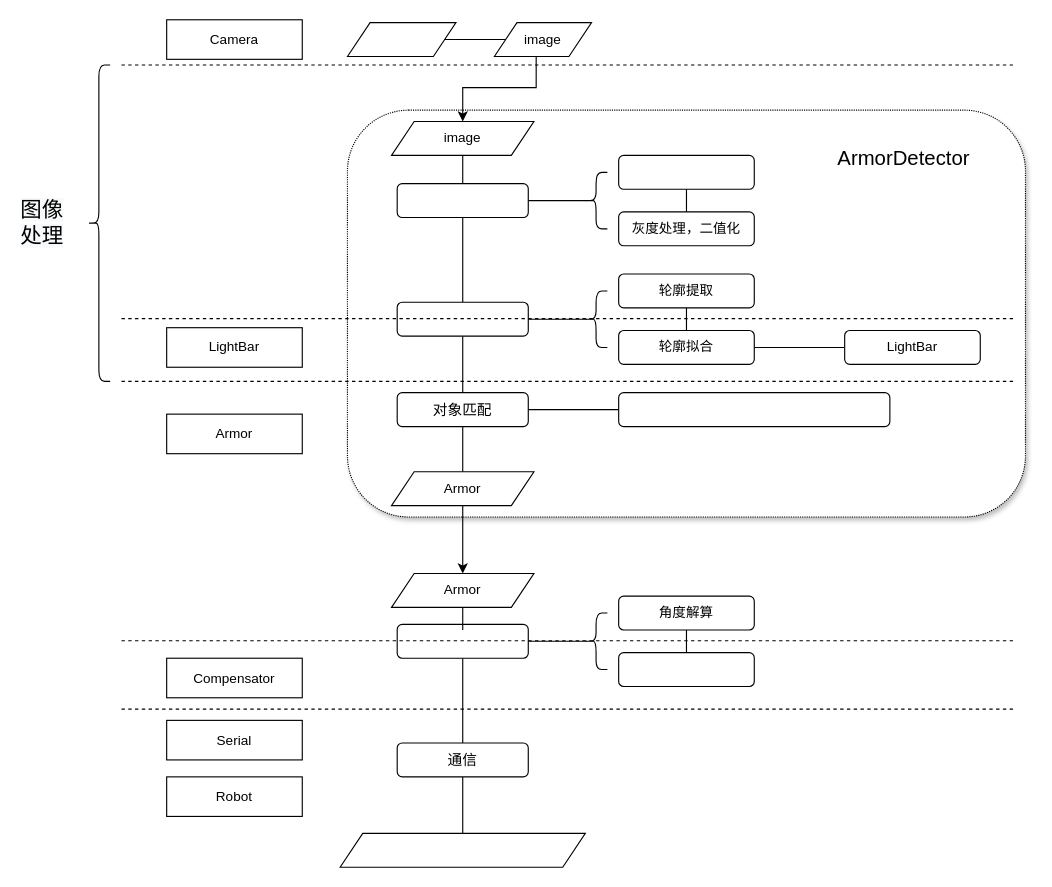
Some shapes in this 1052 by 887 pixel diagram are drawn without their labels. The centre of each missing label's shape, as x and y in pixels:
Protocol_DownPackage_t: the point at 462,849
raw: the point at 401,38
RGB通道处理: the point at 686,171
两个LightBar拟合一个Armor: the point at 754,409
弹道补偿: the point at 686,668
解算: the point at 462,640
轮廓处理: the point at 462,318
预处理: the point at 462,200
